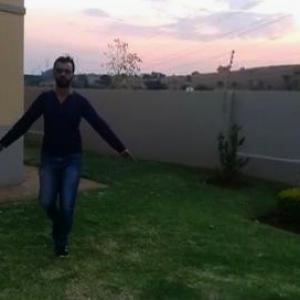land: (0, 65, 136, 238)
